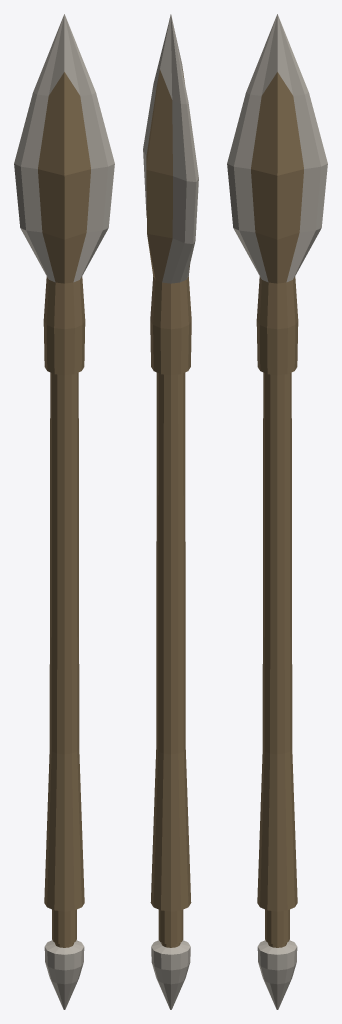
The model's file is LanceRudimentaire.fbx.
3 views of the same model, side by side, from view 1: azimuth 90°, elevation 25°; view 2: azimuth 210°, elevation 25°; view 3: azimuth 270°, elevation 25° (orthographic).
Parts seen in each view (by area): view 1: Cylinder; view 2: Cylinder; view 3: Cylinder.
Boxes of the visible parts, bbox=[...] form: Cylinder: bbox=[14, 14, 114, 1009]; Cylinder: bbox=[143, 14, 198, 1009]; Cylinder: bbox=[227, 14, 327, 1009].
Size of the model in its own units: 7.67 by 147 by 13.54.
